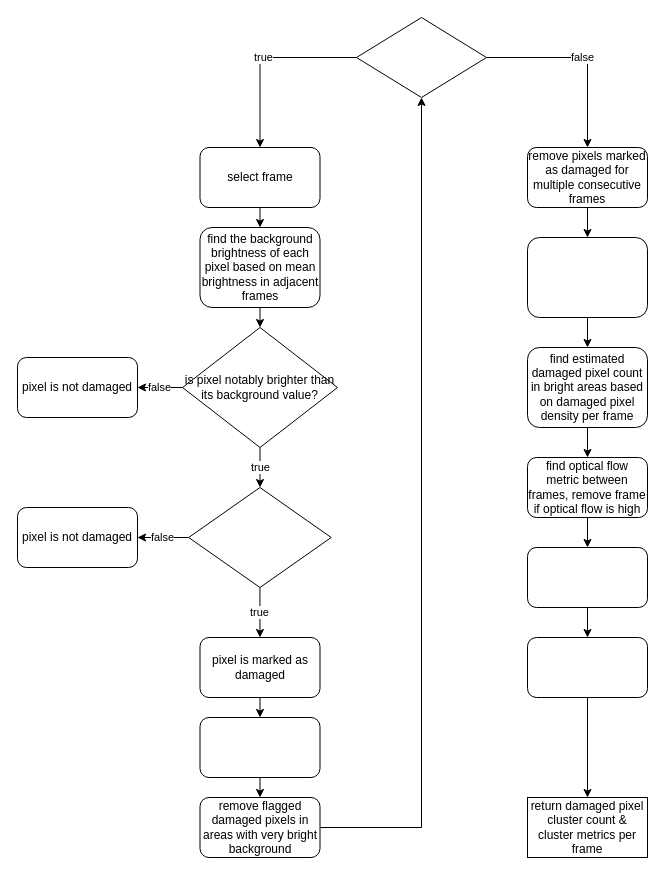
Image size: 665x875. Some labels were removed from this diagram. Here are the shapes that lost their labels. From the top down, the centre of each, then its label:
pixel 421 57: i < num_frames?
pixel 587 277: find damaged pixel heatmap and flag pixels that are damaged >50% of all frames
pixel 259 537: is pixel brighter than its neighbours?
pixel 587 577: count number of damaged pixel clusters
pixel 587 667: calculate mean cluster size/brightness for each frame
pixel 259 747: filter out large clusters of pixels marked as damaged
